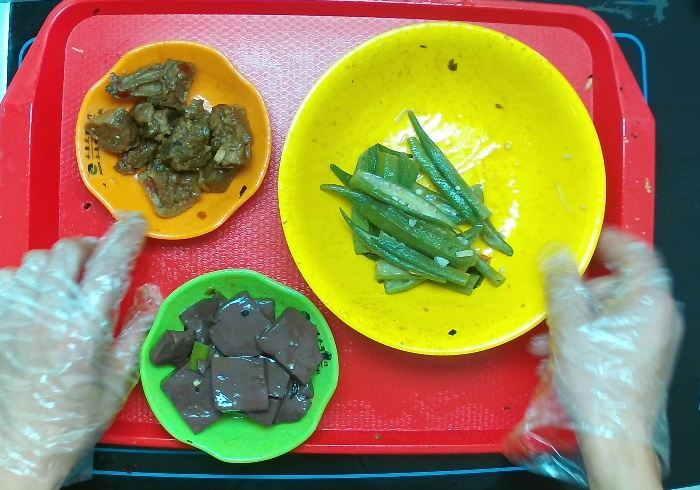YKMZ-Huang_Se_Tang_Wan: (278, 22, 610, 358)
YKMZ-Ju_Se_Ao_Bian_Wan: (76, 40, 272, 241)
YKMZ-Lv_Se_Ao_Bian_Wan: (137, 266, 338, 464)
